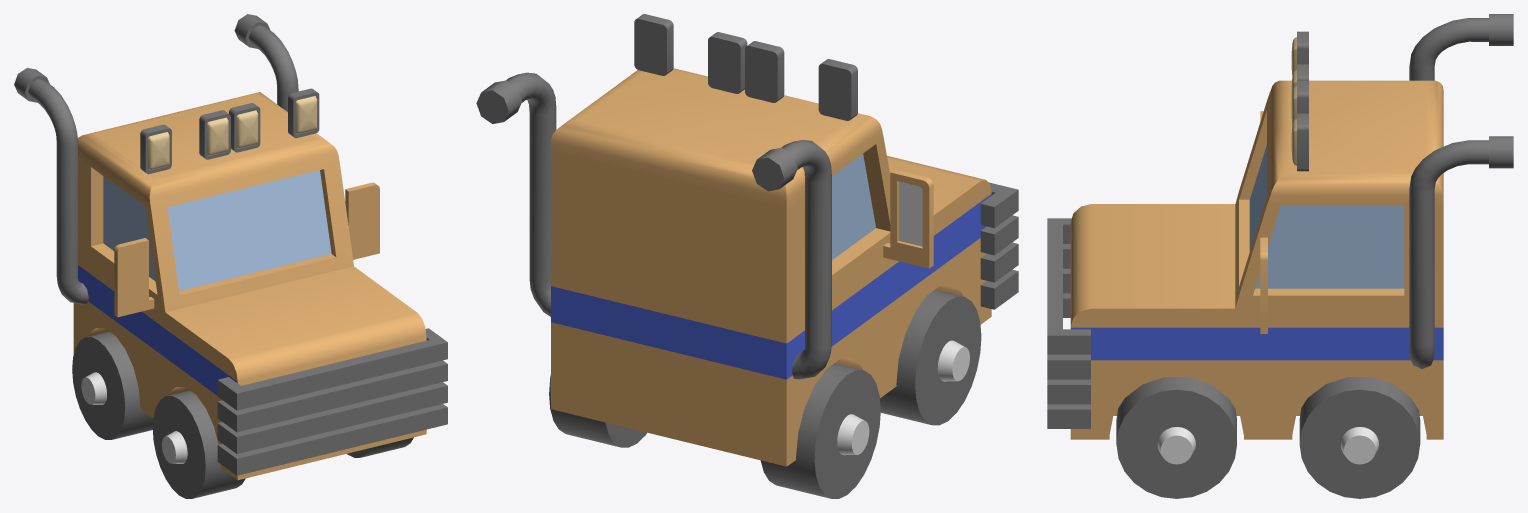
Rendered from train_Body_GEO.fbx.
3 renders of one model, left to right at view 1: azimuth 30°, elevation 25°; view 2: azimuth 150°, elevation 25°; view 3: azimuth 270°, elevation 25°, orthographic. The views are drawn at different scales.
Visible parts, largest first — view 1: train_Body_GEO; view 2: train_Body_GEO; view 3: train_Body_GEO.
Part boxes in pixels (box(x1,y1,x2,y2)): train_Body_GEO: box(14, 14, 447, 498); train_Body_GEO: box(476, 14, 1018, 498); train_Body_GEO: box(1047, 14, 1513, 498).
Size of the model in its own units: 292 by 396 by 341.
1 material, 1 textured.
